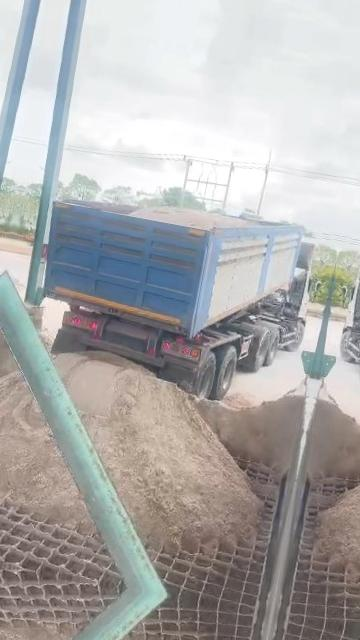sand: (56, 354, 259, 549), (0, 372, 91, 528), (196, 391, 304, 473), (131, 206, 252, 231), (0, 324, 17, 381), (221, 393, 257, 409)
